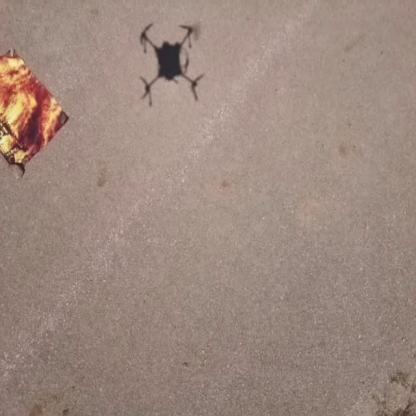fire-poster: (0, 47, 70, 178)
